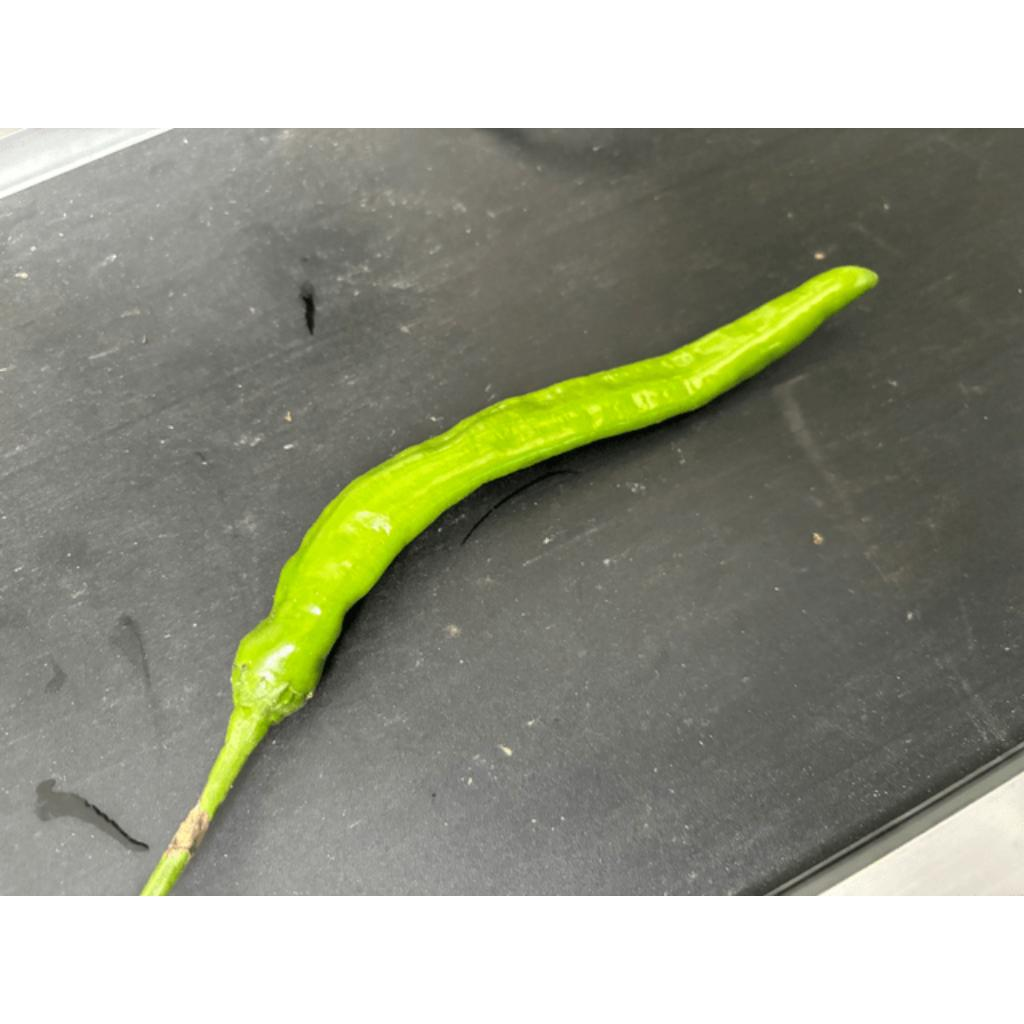chili: (229, 265, 882, 730)
